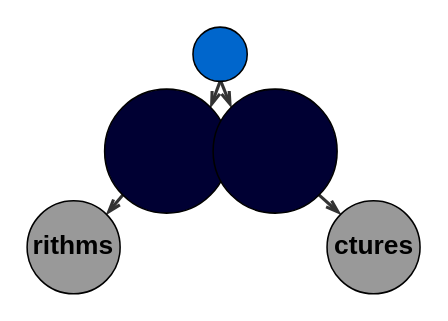
This 448x321 diagram has some shape labels left out. The centre of each missing label's shape, as x and y in pixels:
"algo" goes at (x=166, y=150).
"stru" goes at (x=274, y=150).
